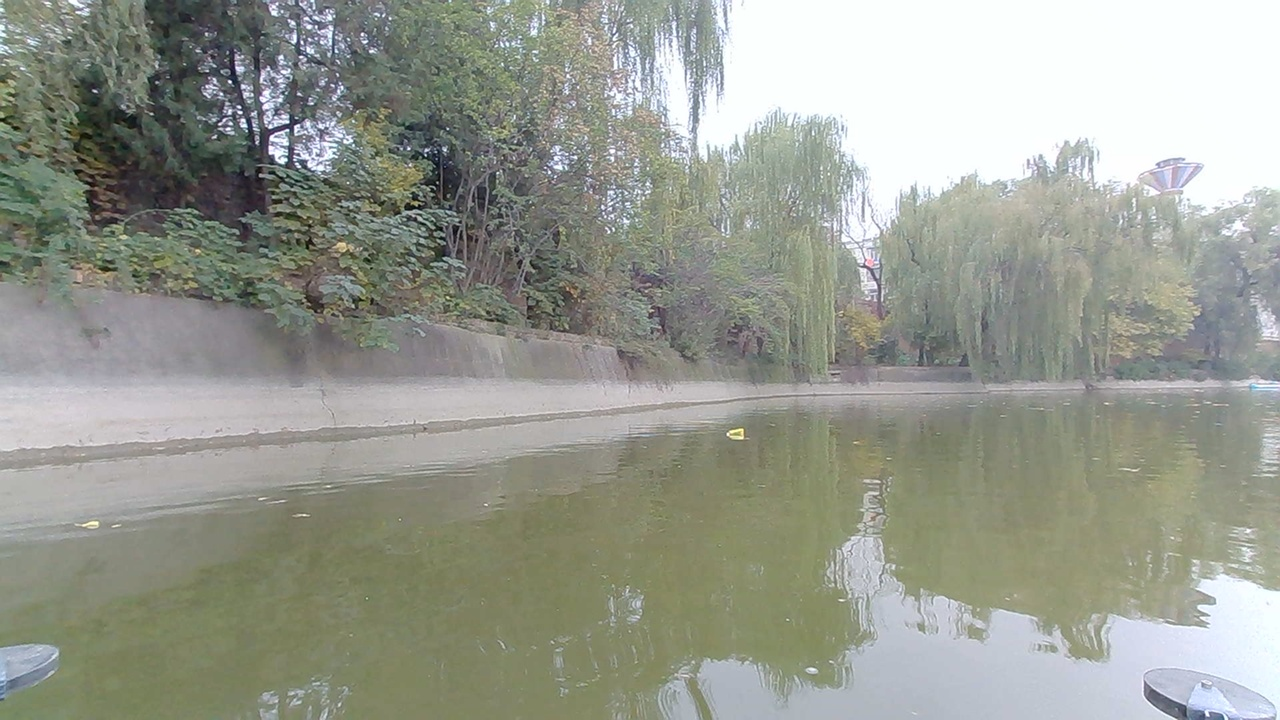bottle: (721, 423, 755, 446)
